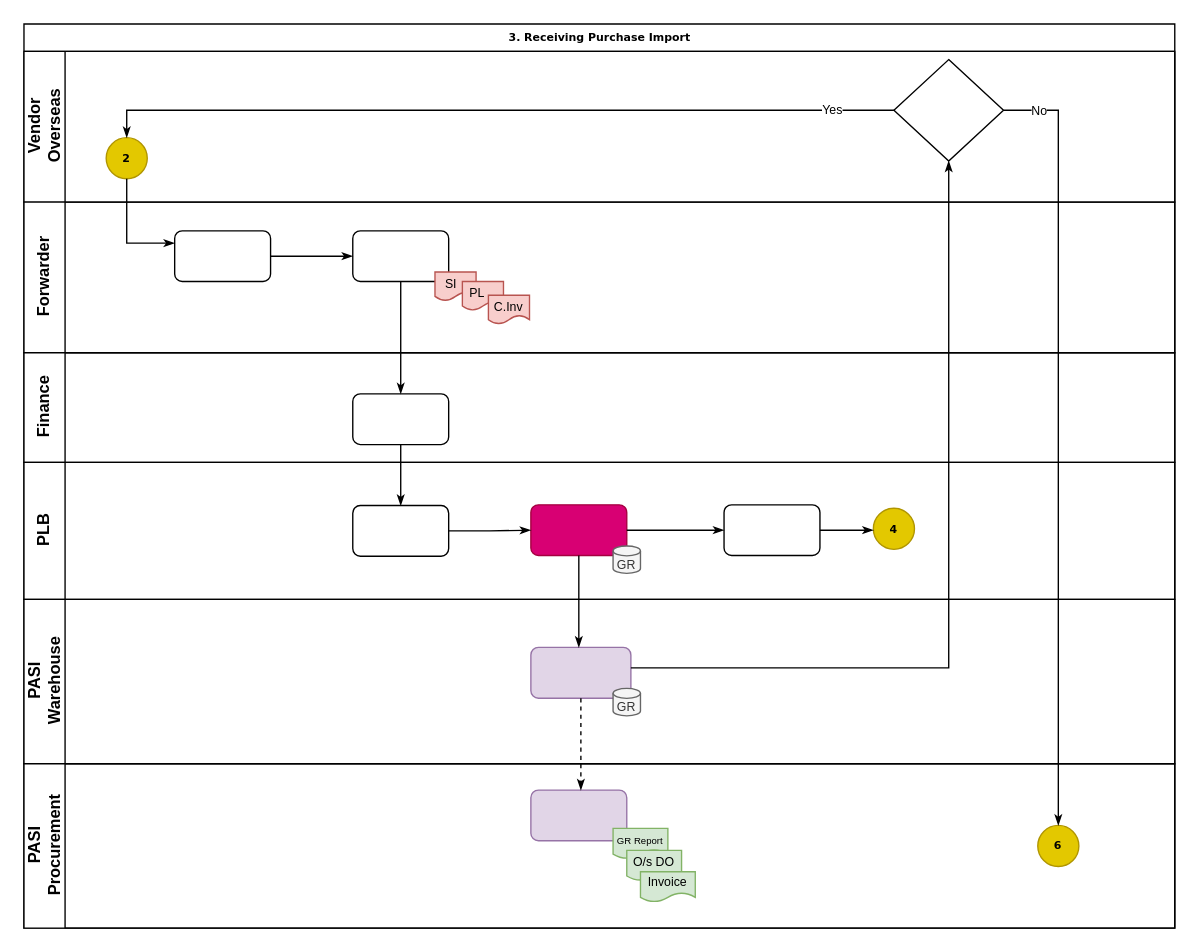
The diagram is 1199 pixels wide and 952 high, and some of its shapes have lost their labels. The shapes that lost their labels are listed below. From the top down, each one's centre as x and y in pixels, then its label:
At point 948,109: "Has Remaining Delivery?".
At point 222,255: "Deliver Parts".
At point 400,255: "Send Shipping Document".
At point 400,419: "Pay Custom Clearence".
At point 400,530: "Parts Received on Dest. Port".
At point 578,529: "Parts Received".
At point 771,529: "Store Parts".
At point 580,672: "Auto Sync GR PLB from portal".
At point 578,815: "Send Order Report to Vendor".
